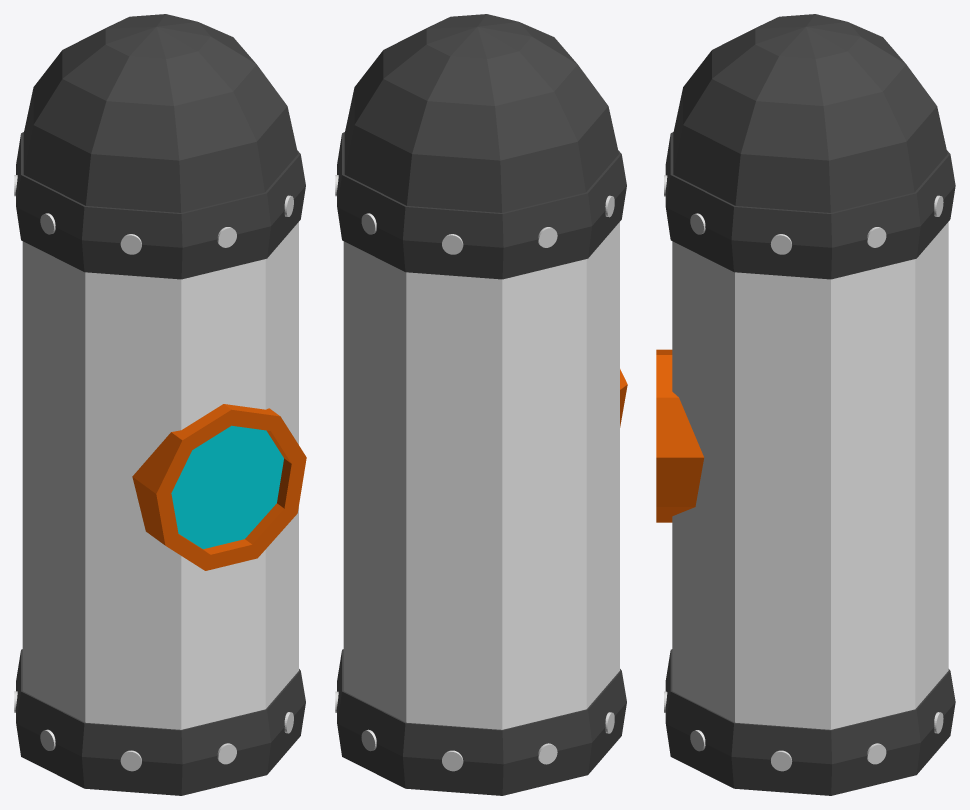
The model's file is Rocket Thin 1.fbx.
3 views of the same model, side by side, from view 1: azimuth 30°, elevation 25°; view 2: azimuth 150°, elevation 25°; view 3: azimuth 270°, elevation 25° (orthographic).
Visible parts, largest first — view 1: Окружность.021; view 2: Окружность.021; view 3: Окружность.021.
Boxes of the visible parts, x1,y1,x2,y2 form: Окружность.021: (14,14,306,795); Окружность.021: (335,14,627,795); Окружность.021: (656,14,955,795).
Size of the model in its own units: 207 by 549 by 210.
